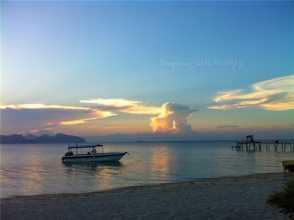otherboat: (61, 138, 130, 167)
